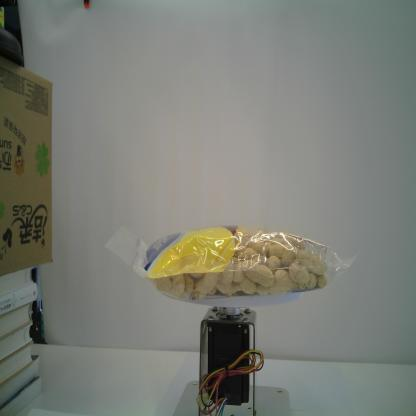Dried Food: (105, 224, 359, 302)
